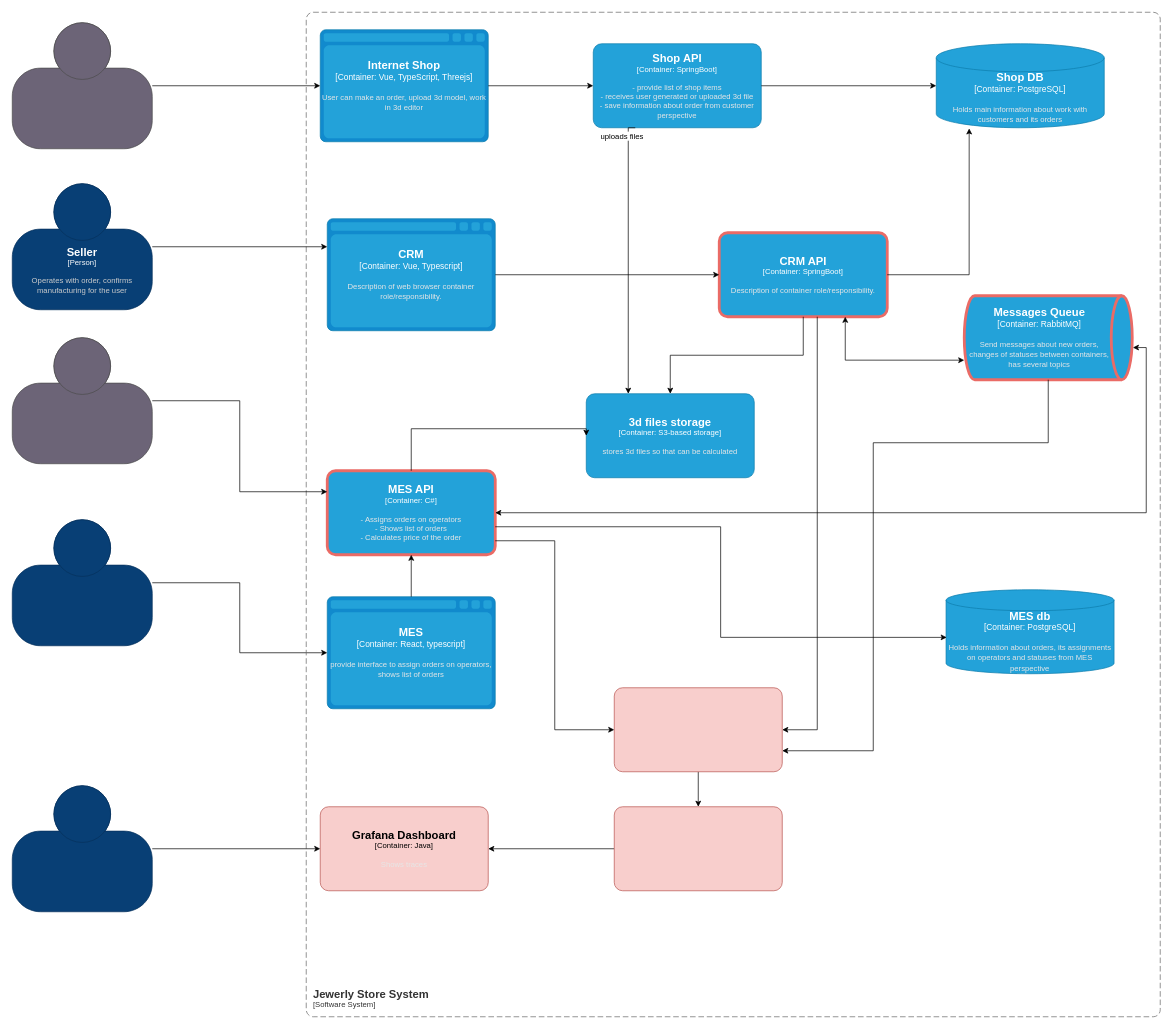
The diagram is 1173 pixels wide and 1029 high, and some of its shapes have lost their labels. The shapes that lost their labels are listed below. From the top down, each one's centre as x and y in pixels, then its label:
At (x=82, y=85): "Customer [Person] Description of external person.".
At (x=82, y=400): "API user [Person] Description of external person.".
At (x=82, y=582): "Operator [Person] Takes order in work, manufactures jewerly".
At (x=698, y=729): "OTLP Collector [Container: Java] Collects traces, moves them further".
At (x=82, y=848): "Developer [Person] Investigates traces".
At (x=698, y=848): "Grafana Tempo [Container: Java] Collects traces, moves them further".
